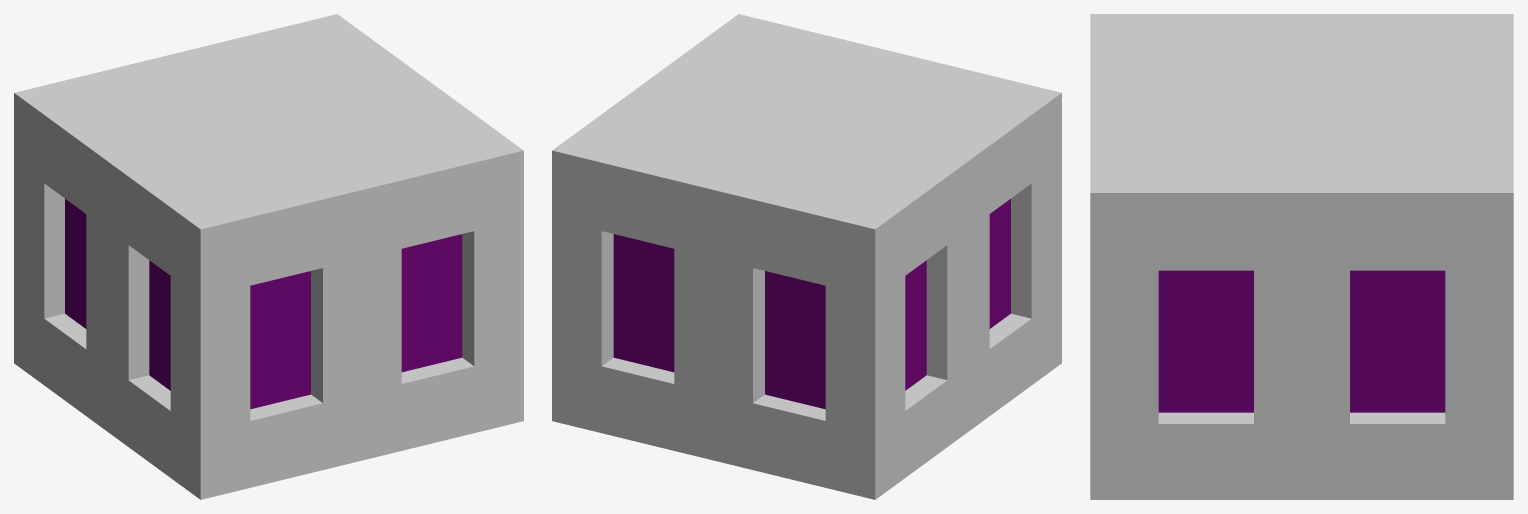
Rendered from square_mid_1.glb.
The picture shows the model from 3 angles, left to right: view 1: azimuth 30°, elevation 25°; view 2: azimuth 150°, elevation 25°; view 3: azimuth 270°, elevation 25°; orthographic projection. The views are drawn at different scales.
Parts seen in each view (by area): view 1: square_mid_1; view 2: square_mid_1; view 3: square_mid_1.
Part boxes in pixels (bbox=[...]): square_mid_1: bbox=[14, 14, 523, 499]; square_mid_1: bbox=[552, 14, 1061, 499]; square_mid_1: bbox=[1090, 14, 1513, 499].
Bounding box in the file's own units: 5 × 4 × 5.
